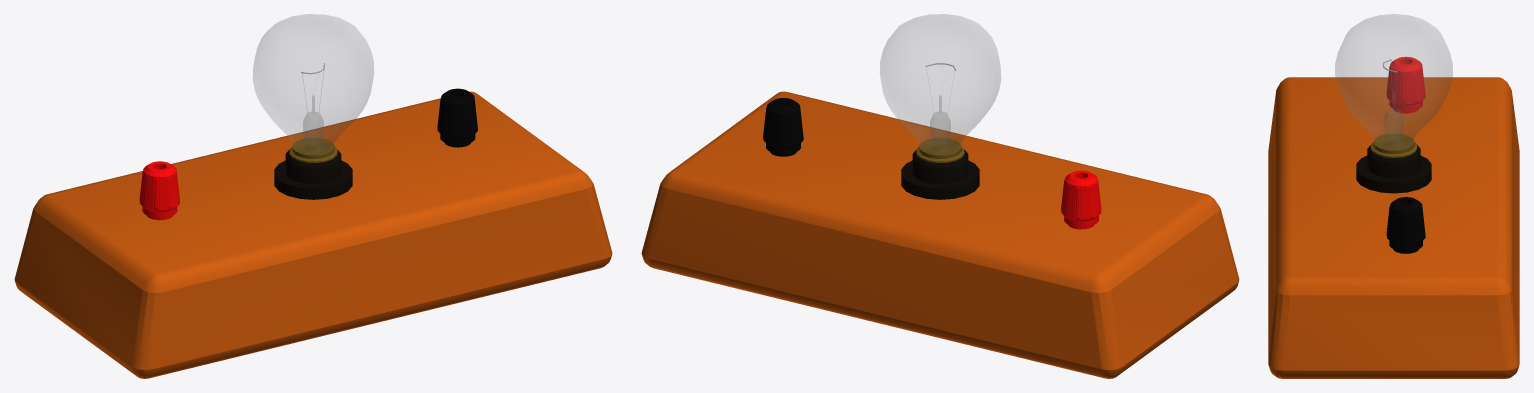
Rendered from lamp.FBX.
3 renders of one model, left to right at view 1: azimuth 30°, elevation 25°; view 2: azimuth 150°, elevation 25°; view 3: azimuth 270°, elevation 25°, orthographic. The views are drawn at different scales.
Parts seen in each view (by area): view 1: ChamferBox, Object001, Cylinder00, Cylinder002, Cylinder001, Object002, Line002; view 2: ChamferBox, Object001, Cylinder00, Cylinder001, Cylinder002, Object002, Line002; view 3: ChamferBox, Object001, Cylinder00, Cylinder002, Cylinder001, Object002, Line002.
Boxes of the visible parts, left/top/right/bottom form: ChamferBox: left=14, top=91, right=612, bottom=378; Object001: left=253, top=14, right=373, bottom=154; Cylinder00: left=274, top=149, right=352, bottom=199; Cylinder002: left=437, top=88, right=477, bottom=147; Cylinder001: left=139, top=161, right=179, bottom=220; Object002: left=289, top=137, right=337, bottom=162; Line002: left=302, top=73, right=323, bottom=147; ChamferBox: left=641, top=91, right=1239, bottom=378; Object001: left=880, top=14, right=1000, bottom=154; Cylinder00: left=901, top=149, right=979, bottom=199; Cylinder001: left=1061, top=170, right=1101, bottom=229; Cylinder002: left=763, top=98, right=803, bottom=156; Object002: left=916, top=137, right=964, bottom=162; Line002: left=930, top=95, right=950, bottom=147; ChamferBox: left=1268, top=77, right=1519, bottom=378; Object001: left=1335, top=14, right=1452, bottom=149; Cylinder00: left=1356, top=144, right=1431, bottom=193; Cylinder002: left=1386, top=197, right=1425, bottom=253; Cylinder001: left=1386, top=56, right=1425, bottom=113; Object002: left=1370, top=133, right=1417, bottom=157; Line002: left=1384, top=61, right=1403, bottom=143.
Bounding box in the file's own units: 5409 × 2765 × 2547.
